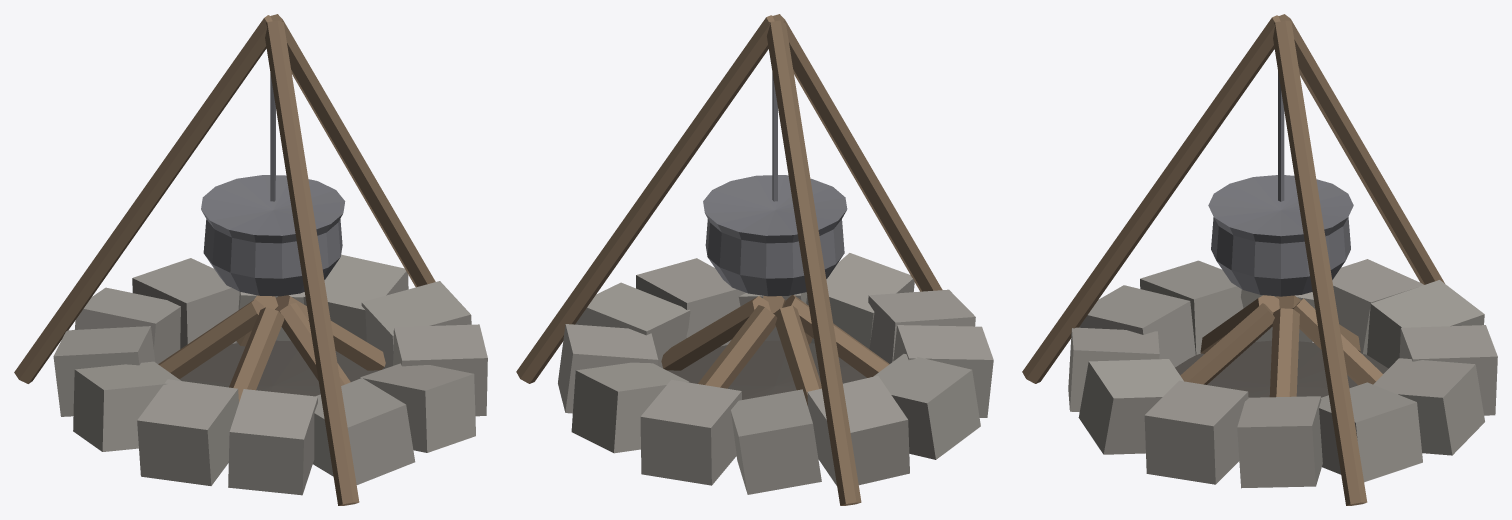
Rendered from C06_篝火灶.fbx.
The picture shows the model from 3 angles, left to right: view 1: azimuth 30°, elevation 25°; view 2: azimuth 150°, elevation 25°; view 3: azimuth 270°, elevation 25°; orthographic projection.
Visible parts, largest first — view 1: C06_石圈, C06_三脚架, C06_吊锅, C06_柴, C06_灰烬, C06_吊链; view 2: C06_石圈, C06_三脚架, C06_吊锅, C06_柴, C06_灰烬, C06_吊链; view 3: C06_石圈, C06_三脚架, C06_吊锅, C06_柴, C06_灰烬, C06_吊链.
Part boxes in pixels (x1,y1,x2,y2): C06_石圈: (53,254,487,495); C06_三脚架: (14,14,435,505); C06_吊锅: (201,175,345,296); C06_柴: (158,295,385,402); C06_灰烬: (179,340,382,396); C06_吊链: (270,73,275,201); C06_石圈: (558,253,993,494); C06_三脚架: (516,14,942,505); C06_吊锅: (703,175,847,296); C06_柴: (661,295,889,405); C06_灰烬: (667,340,866,399); C06_吊链: (772,73,777,201); C06_石圈: (1068,259,1497,488); C06_三脚架: (1022,14,1444,505); C06_吊锅: (1208,175,1353,296); C06_柴: (1180,295,1382,397); C06_灰烬: (1175,340,1388,397); C06_吊链: (1278,71,1284,201).
Size of the model in its own units: 174 by 160 by 177.
